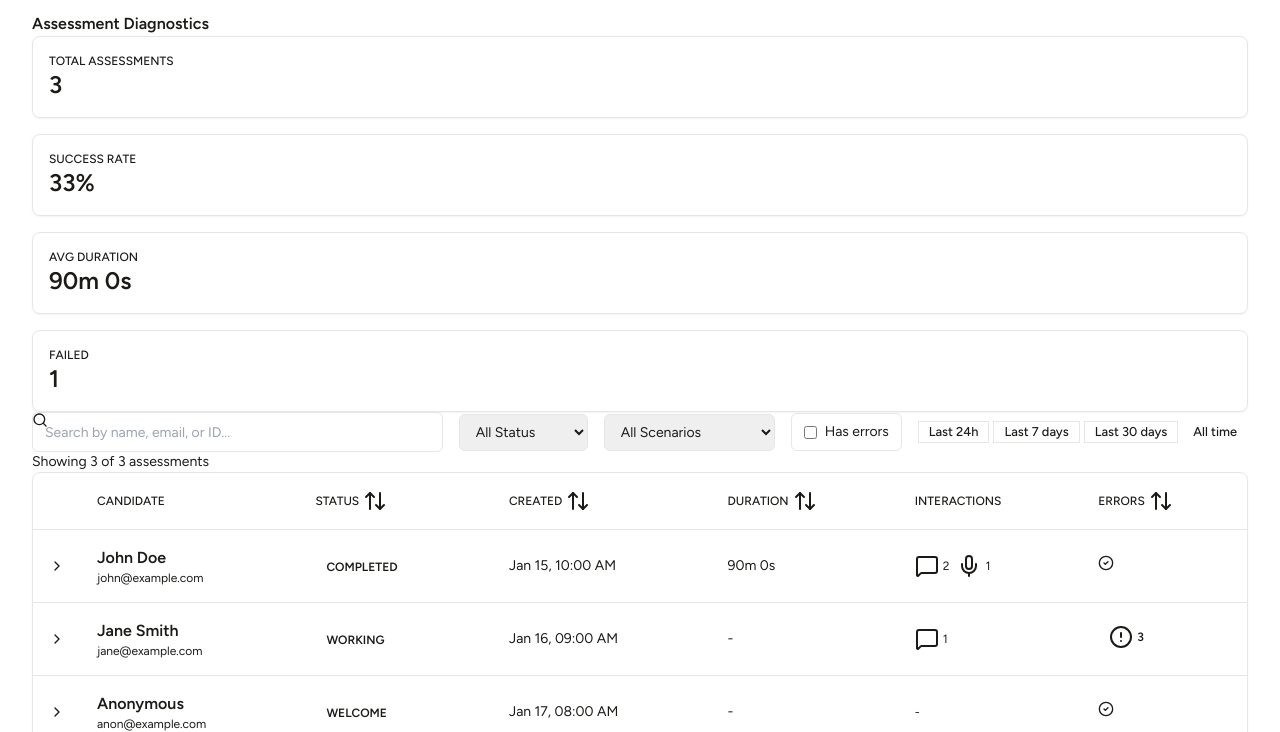
Test: AssessmentsClient › Has errors filter › filters to only assessments with errors when checked
Click the checkbox with test id "has-errors-filter" at coordinates (810, 432), box [804,426,817,438]
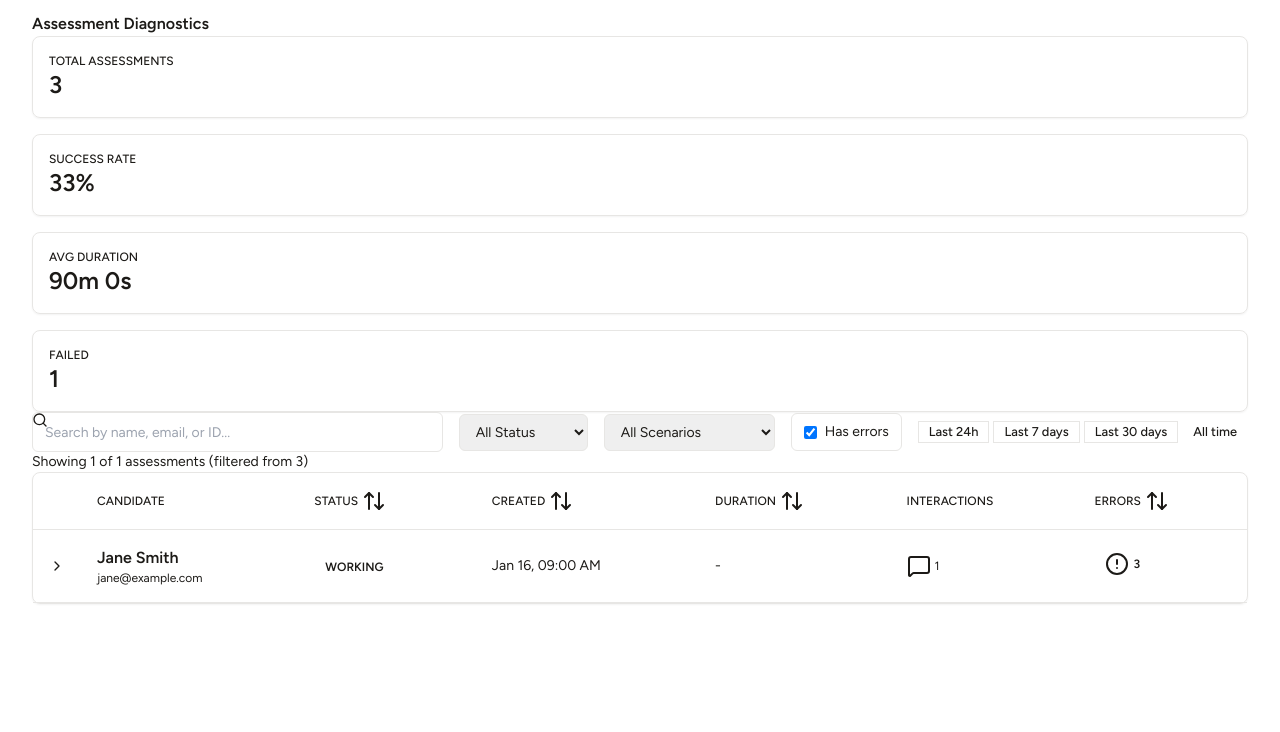
Check: the text "Jane Smith" is shown, box [97,548,179,567]
Check: the text "John Doe" is gone
Check: the text "Anonymous" is gone
